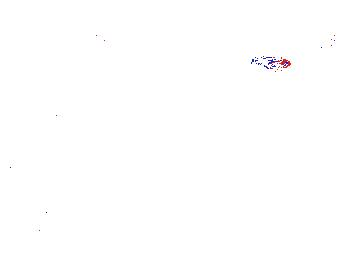red belly glassfish: (248, 55, 291, 72)
redtail glassfish: (273, 28, 346, 57)
